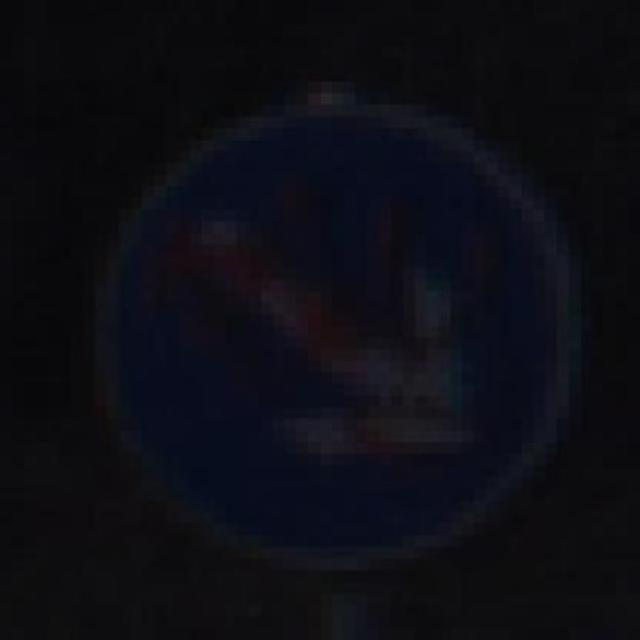Keep-Right: (71, 93, 617, 605)
